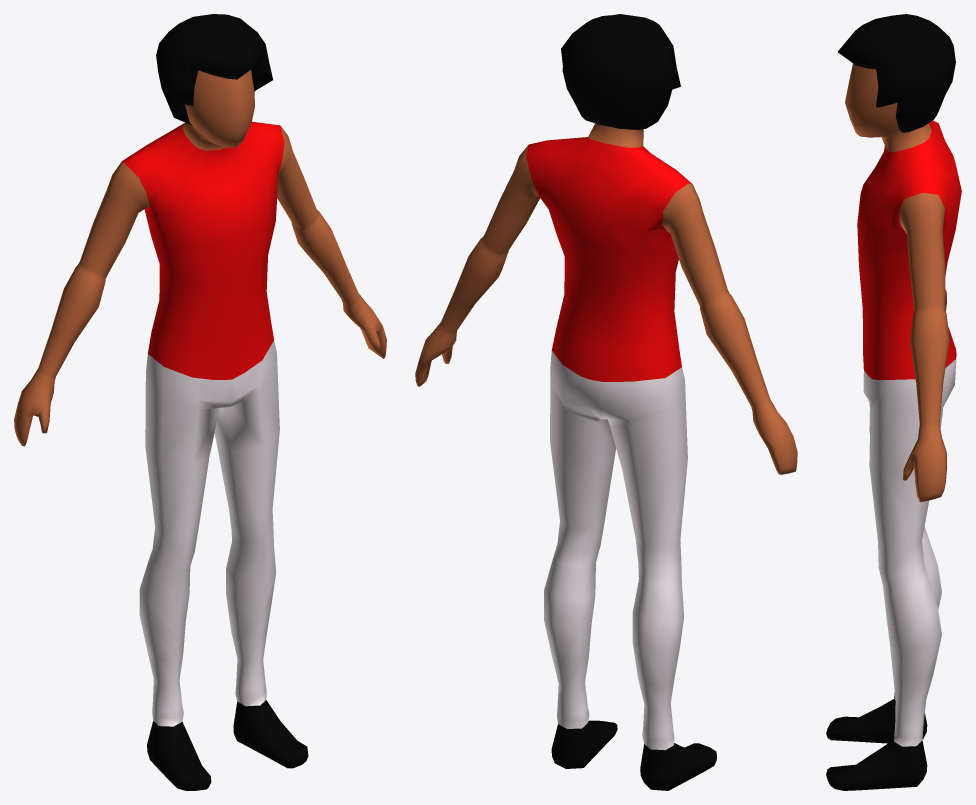
Rendered from male_low_poly_game_character.glb.
The picture shows the model from 3 angles, left to right: view 1: azimuth 30°, elevation 25°; view 2: azimuth 150°, elevation 25°; view 3: azimuth 270°, elevation 25°; orthographic projection. The views are drawn at different scales.
Visible parts, largest first — view 1: corpo.001, corpo.002; view 2: corpo.001, corpo.002; view 3: corpo.001, corpo.002.
Part boxes in pixels (left/top/right/bottom): corpo.001: left=14, top=70, right=386, bottom=790; corpo.002: left=156, top=14, right=272, bottom=124; corpo.001: left=415, top=123, right=797, bottom=790; corpo.002: left=561, top=14, right=680, bottom=129; corpo.001: left=826, top=63, right=961, bottom=790; corpo.002: left=838, top=14, right=955, bottom=132.
Bounding box in the file's own units: 0.9682 × 1.85 × 0.3097.
